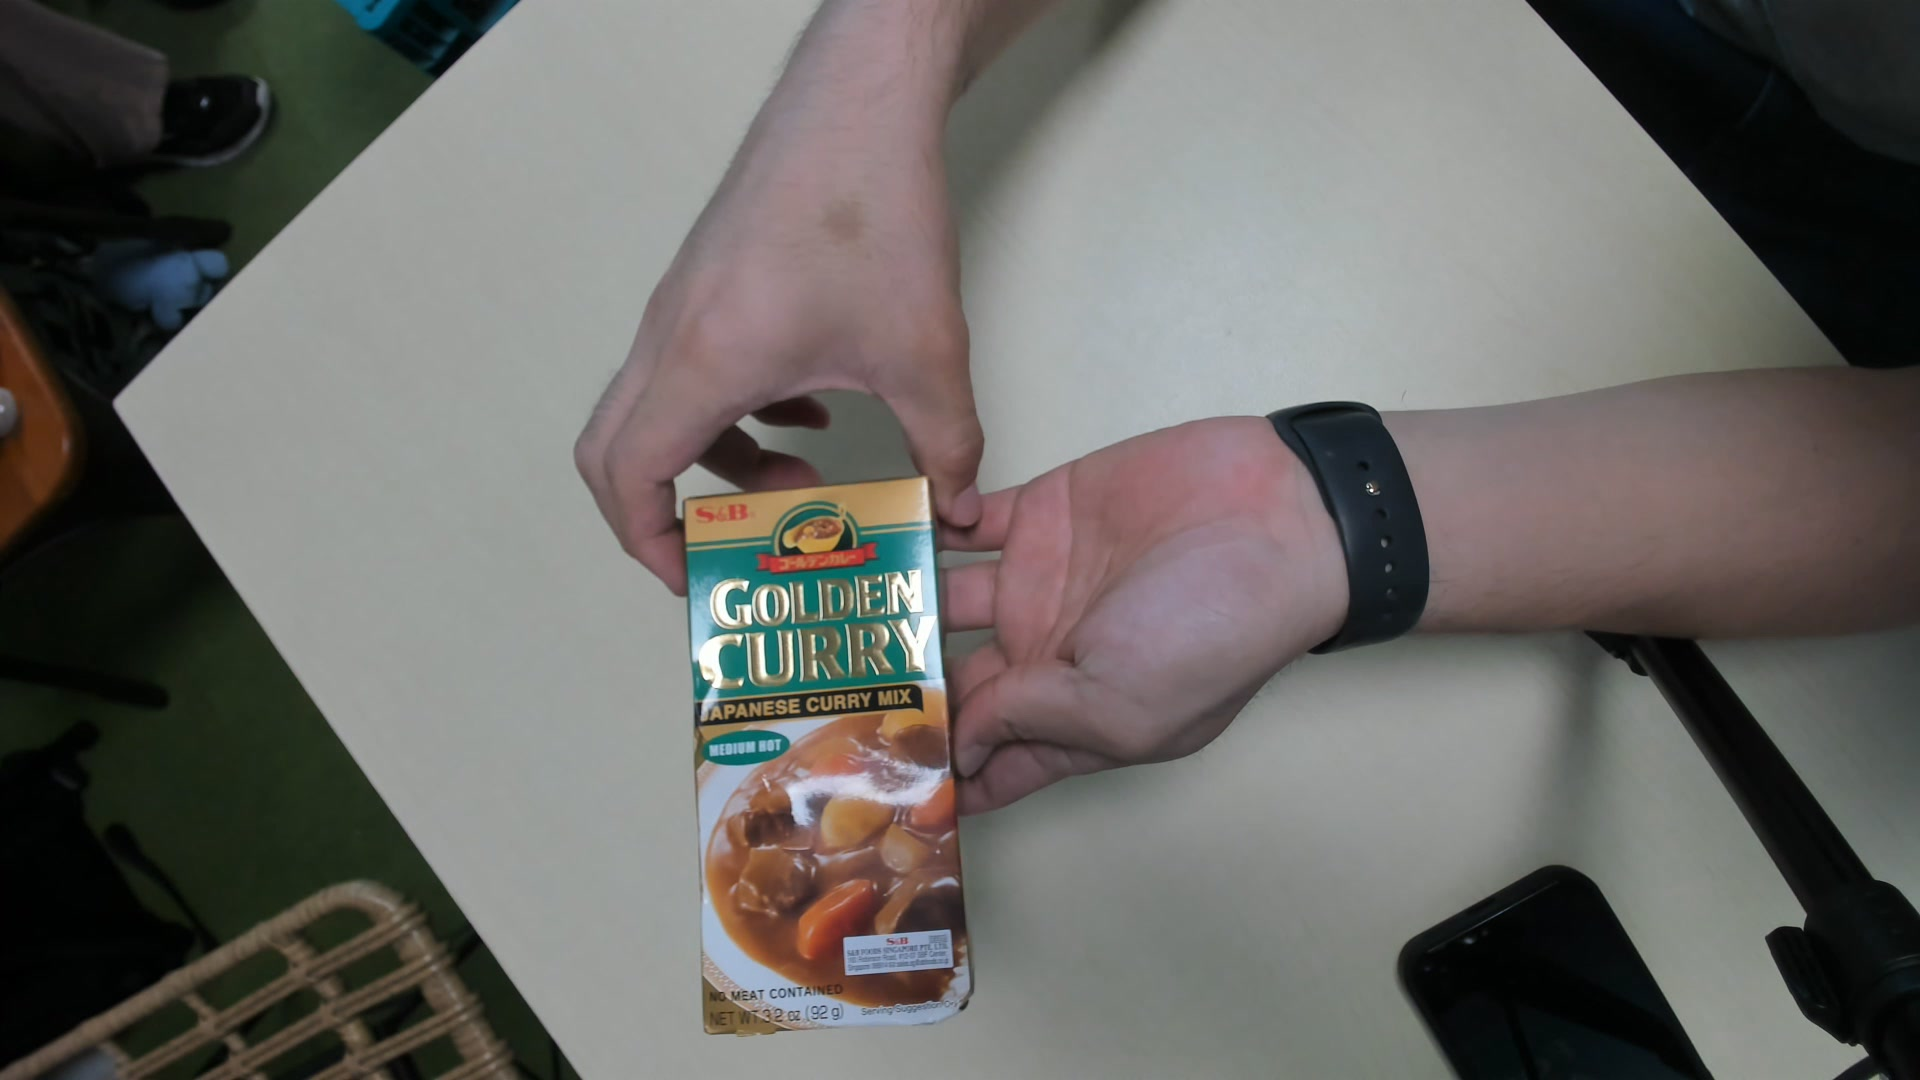OtherSauceDressing_0-99g_NonHalal_NonHealthy: (679, 477, 973, 1038)
